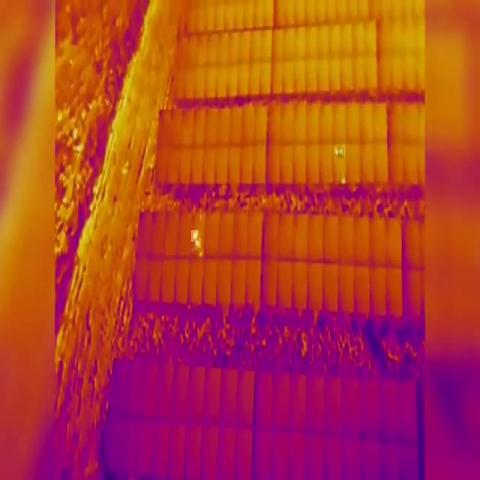fault: (339, 173, 347, 187), (198, 248, 205, 261), (191, 230, 198, 242), (194, 238, 201, 250), (333, 146, 340, 157), (338, 147, 344, 158)
